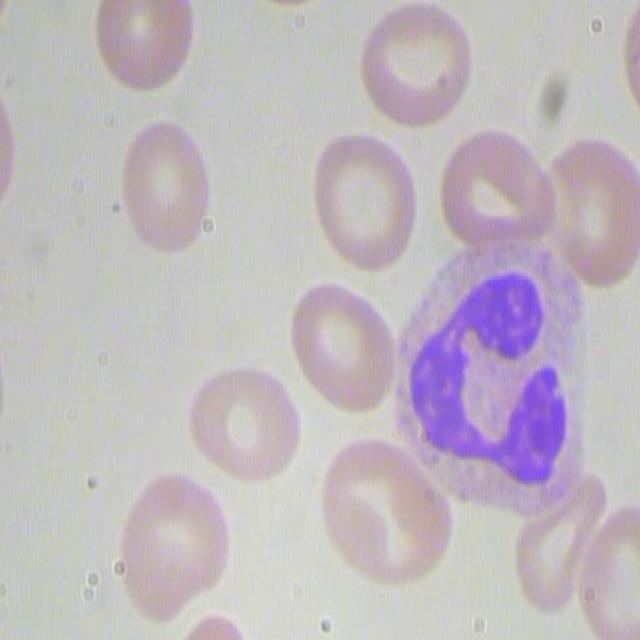RBC: (322, 422, 452, 588), (111, 473, 233, 623), (356, 0, 479, 137), (311, 126, 421, 278), (526, 138, 637, 287), (432, 126, 553, 258), (180, 362, 300, 488), (294, 276, 398, 419), (512, 459, 606, 616), (119, 114, 215, 256), (565, 492, 640, 640), (88, 0, 195, 87), (0, 106, 76, 206)
WBC: (394, 241, 582, 516)
